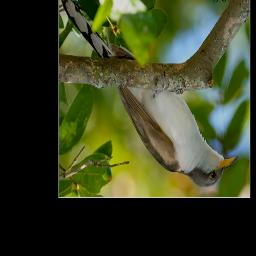Cuckoo: (59, 0, 242, 190)
